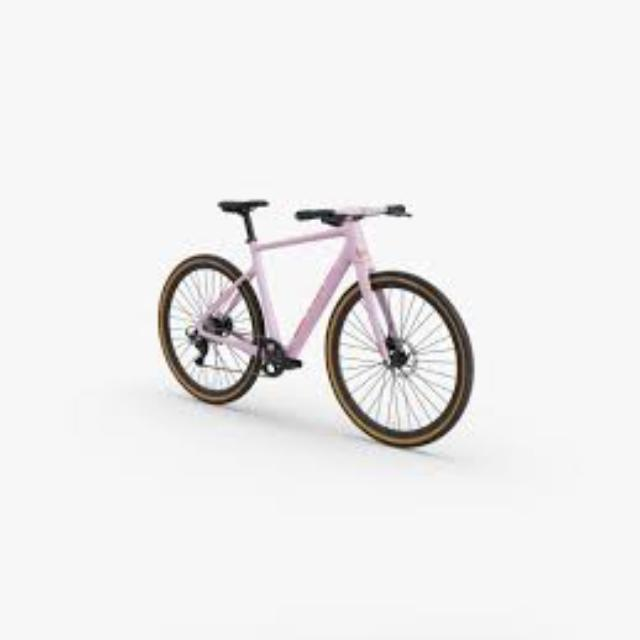obstacle: (158, 180, 480, 458)
